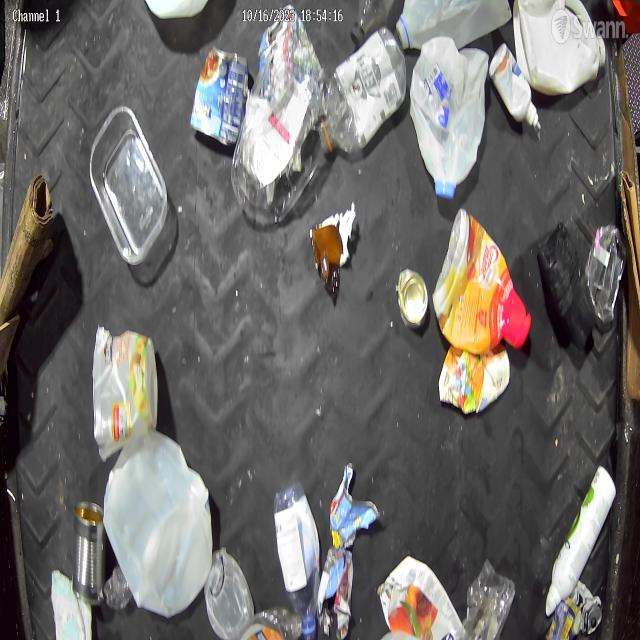can: (190, 46, 249, 146), (73, 498, 106, 605), (396, 267, 429, 330), (571, 582, 604, 638), (545, 600, 583, 640)
milk_jug: (104, 432, 214, 618), (410, 36, 489, 200), (512, 0, 605, 98), (395, 0, 511, 51)
non_white_jug: (432, 208, 532, 356)
plastic_bottle: (318, 27, 407, 154), (272, 479, 323, 640)
